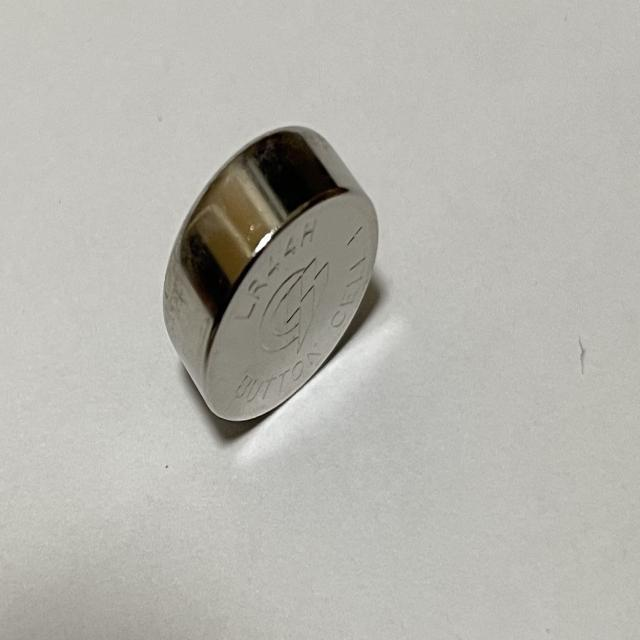COIN: (161, 124, 382, 423)
